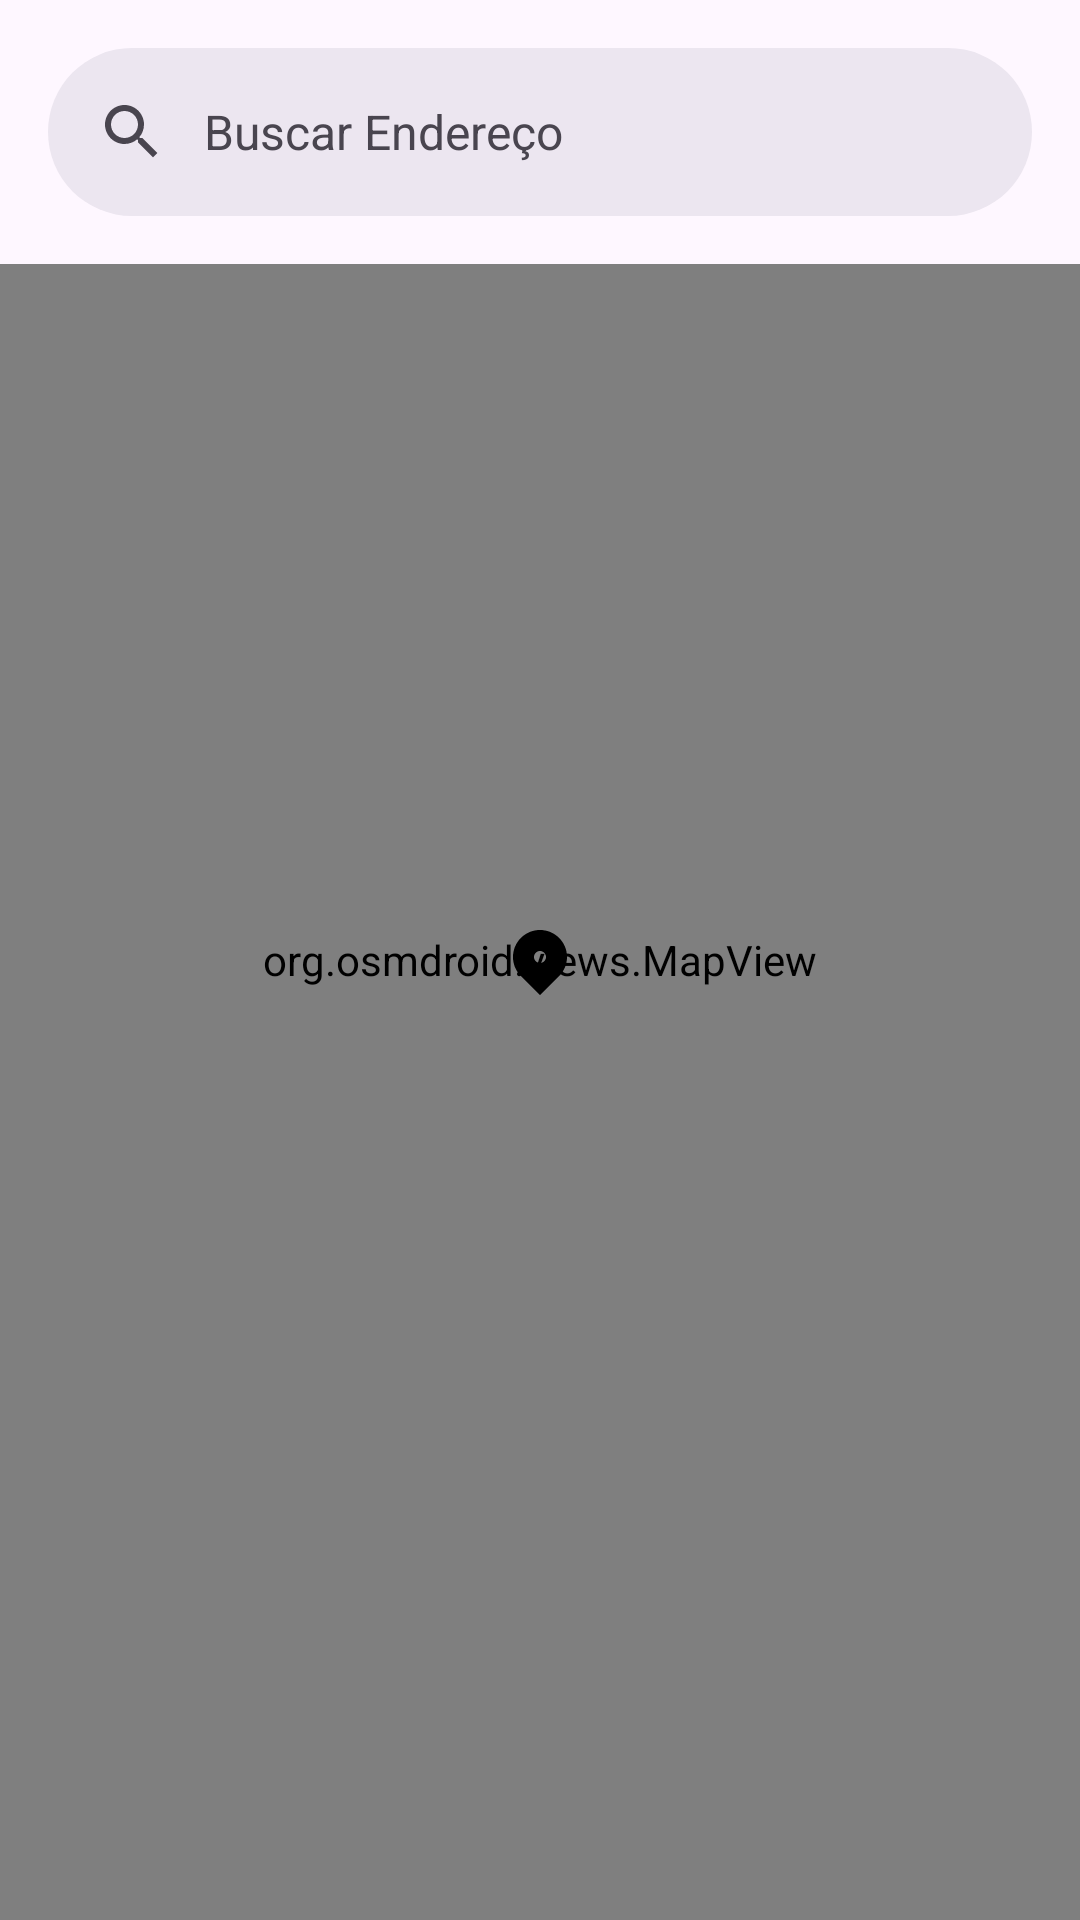

Named icons in this screenshot (1080w x 1920h) and their bounding boxes, bbox=(x1, y1, x2, y2):
map pin: bbox=(513, 930, 576, 995)
